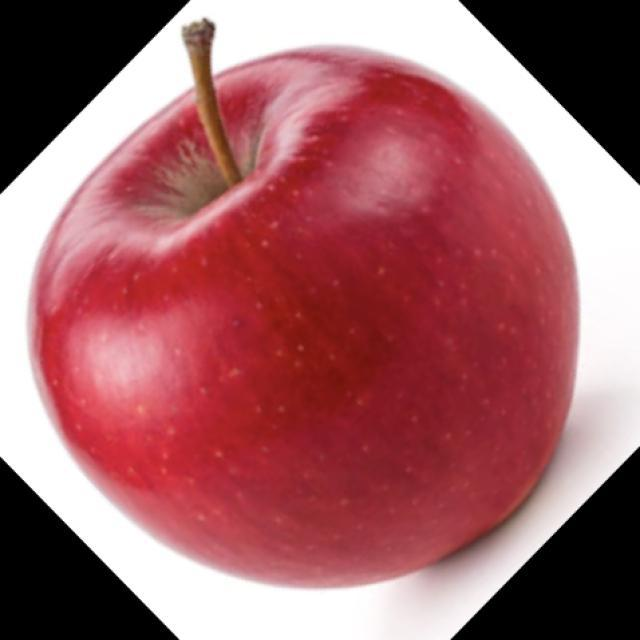Apple: (25, 17, 581, 590)
